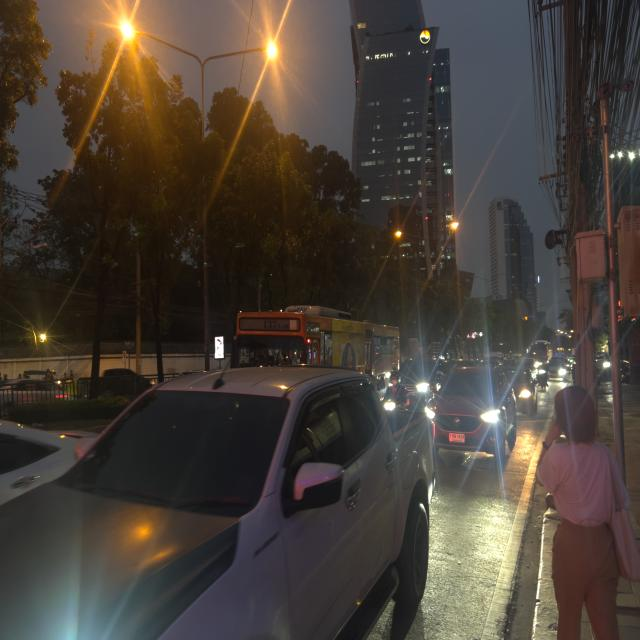BMTA-bus: (228, 305, 402, 387)
Bus-Line-Number: (262, 316, 290, 332)
